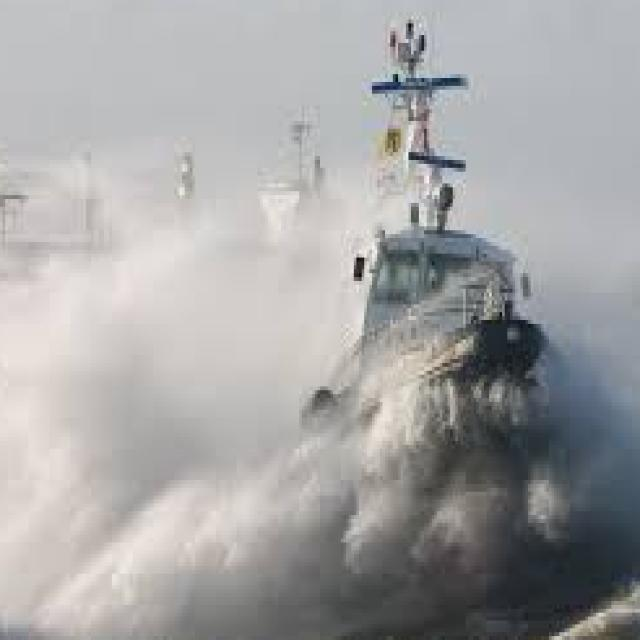navalvessels: (273, 24, 576, 612)
